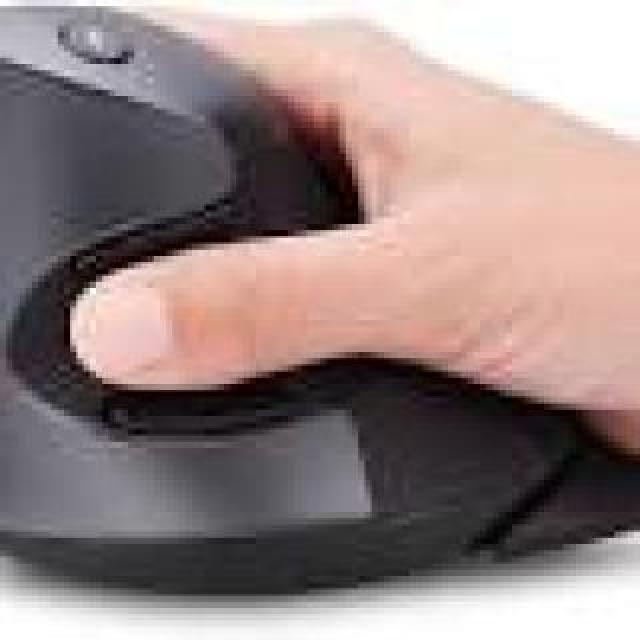mouse: (41, 0, 622, 640)
